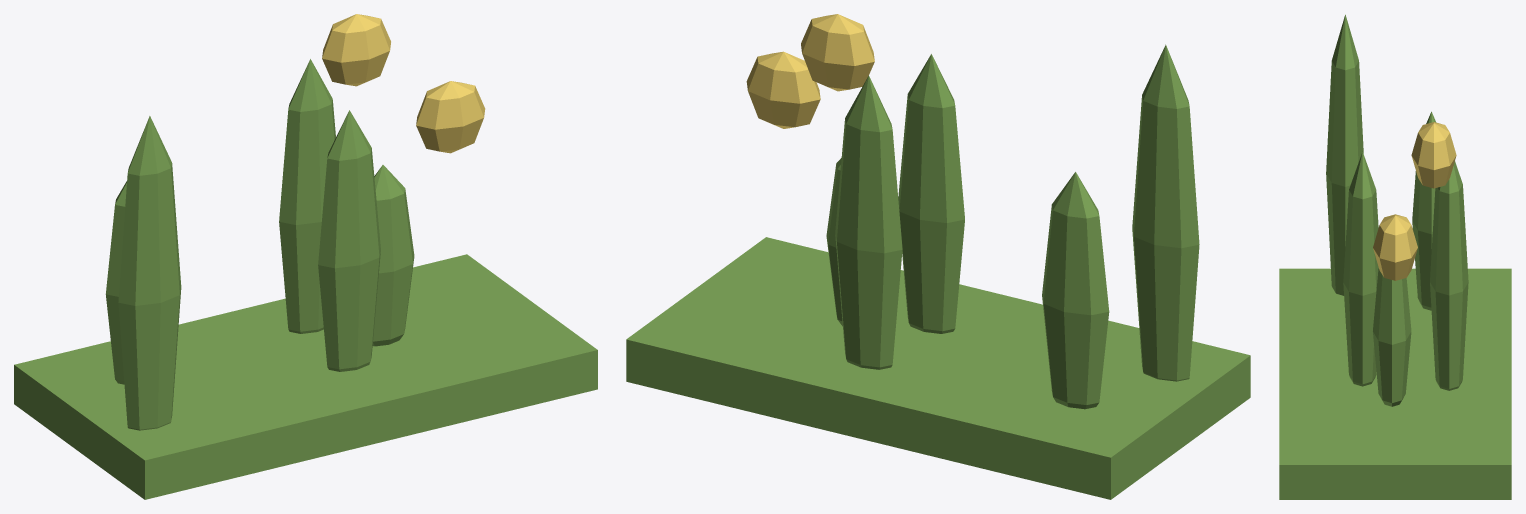
The model's file is GG-VEG-GROUND-COVER-SUCCULENT-001_LOD_MAP.glb.
The picture shows the model from 3 angles, left to right: view 1: azimuth 30°, elevation 25°; view 2: azimuth 150°, elevation 25°; view 3: azimuth 270°, elevation 25°; orthographic projection. The views are drawn at different scales.
Visible parts, largest first — view 1: GG_VEG_MOD_BASE_001, GG_VEG_MODULE_4, GG_VEG_MODULE_5, GG_VEG_MODULE_2, GG_VEG_MODULE_1, GG_VEG_ACCENT_1, GG_VEG_ACCENT_2, GG_VEG_MODULE_3; view 2: GG_VEG_MOD_BASE_001, GG_VEG_MODULE_4, GG_VEG_MODULE_2, GG_VEG_MODULE_5, GG_VEG_MODULE_3, GG_VEG_ACCENT_2, GG_VEG_ACCENT_1, GG_VEG_MODULE_1; view 3: GG_VEG_MOD_BASE_001, GG_VEG_MODULE_2, GG_VEG_MODULE_4, GG_VEG_MODULE_5, GG_VEG_MODULE_1, GG_VEG_ACCENT_2, GG_VEG_ACCENT_1, GG_VEG_MODULE_3.
Part boxes in pixels (x1,y1,x2,y2): GG_VEG_MOD_BASE_001: (14,254,597,499); GG_VEG_MODULE_4: (118,116,181,430); GG_VEG_MODULE_5: (318,110,380,371); GG_VEG_MODULE_2: (279,59,335,333); GG_VEG_MODULE_1: (372,165,414,346); GG_VEG_ACCENT_1: (416,81,485,153); GG_VEG_ACCENT_2: (322,14,390,86); GG_VEG_MODULE_3: (105,181,126,384); GG_VEG_MOD_BASE_001: (626,237,1250,499); GG_VEG_MODULE_4: (1132,44,1199,381); GG_VEG_MODULE_2: (835,75,902,369); GG_VEG_MODULE_5: (898,54,964,333); GG_VEG_MODULE_3: (1042,172,1109,409); GG_VEG_ACCENT_2: (801,14,874,91); GG_VEG_ACCENT_1: (746,51,820,128); GG_VEG_MODULE_1: (826,158,842,326); GG_VEG_MOD_BASE_001: (1279,268,1511,499); GG_VEG_MODULE_2: (1430,161,1468,390); GG_VEG_MODULE_4: (1326,14,1363,295); GG_VEG_MODULE_5: (1343,152,1378,386); GG_VEG_MODULE_1: (1373,268,1411,406); GG_VEG_ACCENT_2: (1411,122,1456,188); GG_VEG_ACCENT_1: (1373,214,1417,280); GG_VEG_MODULE_3: (1412,111,1436,310).
Size of the model in its own units: 0.72 by 0.5487 by 0.36.
